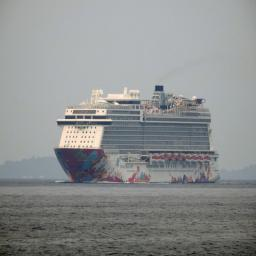cruises: (53, 84, 222, 187)
